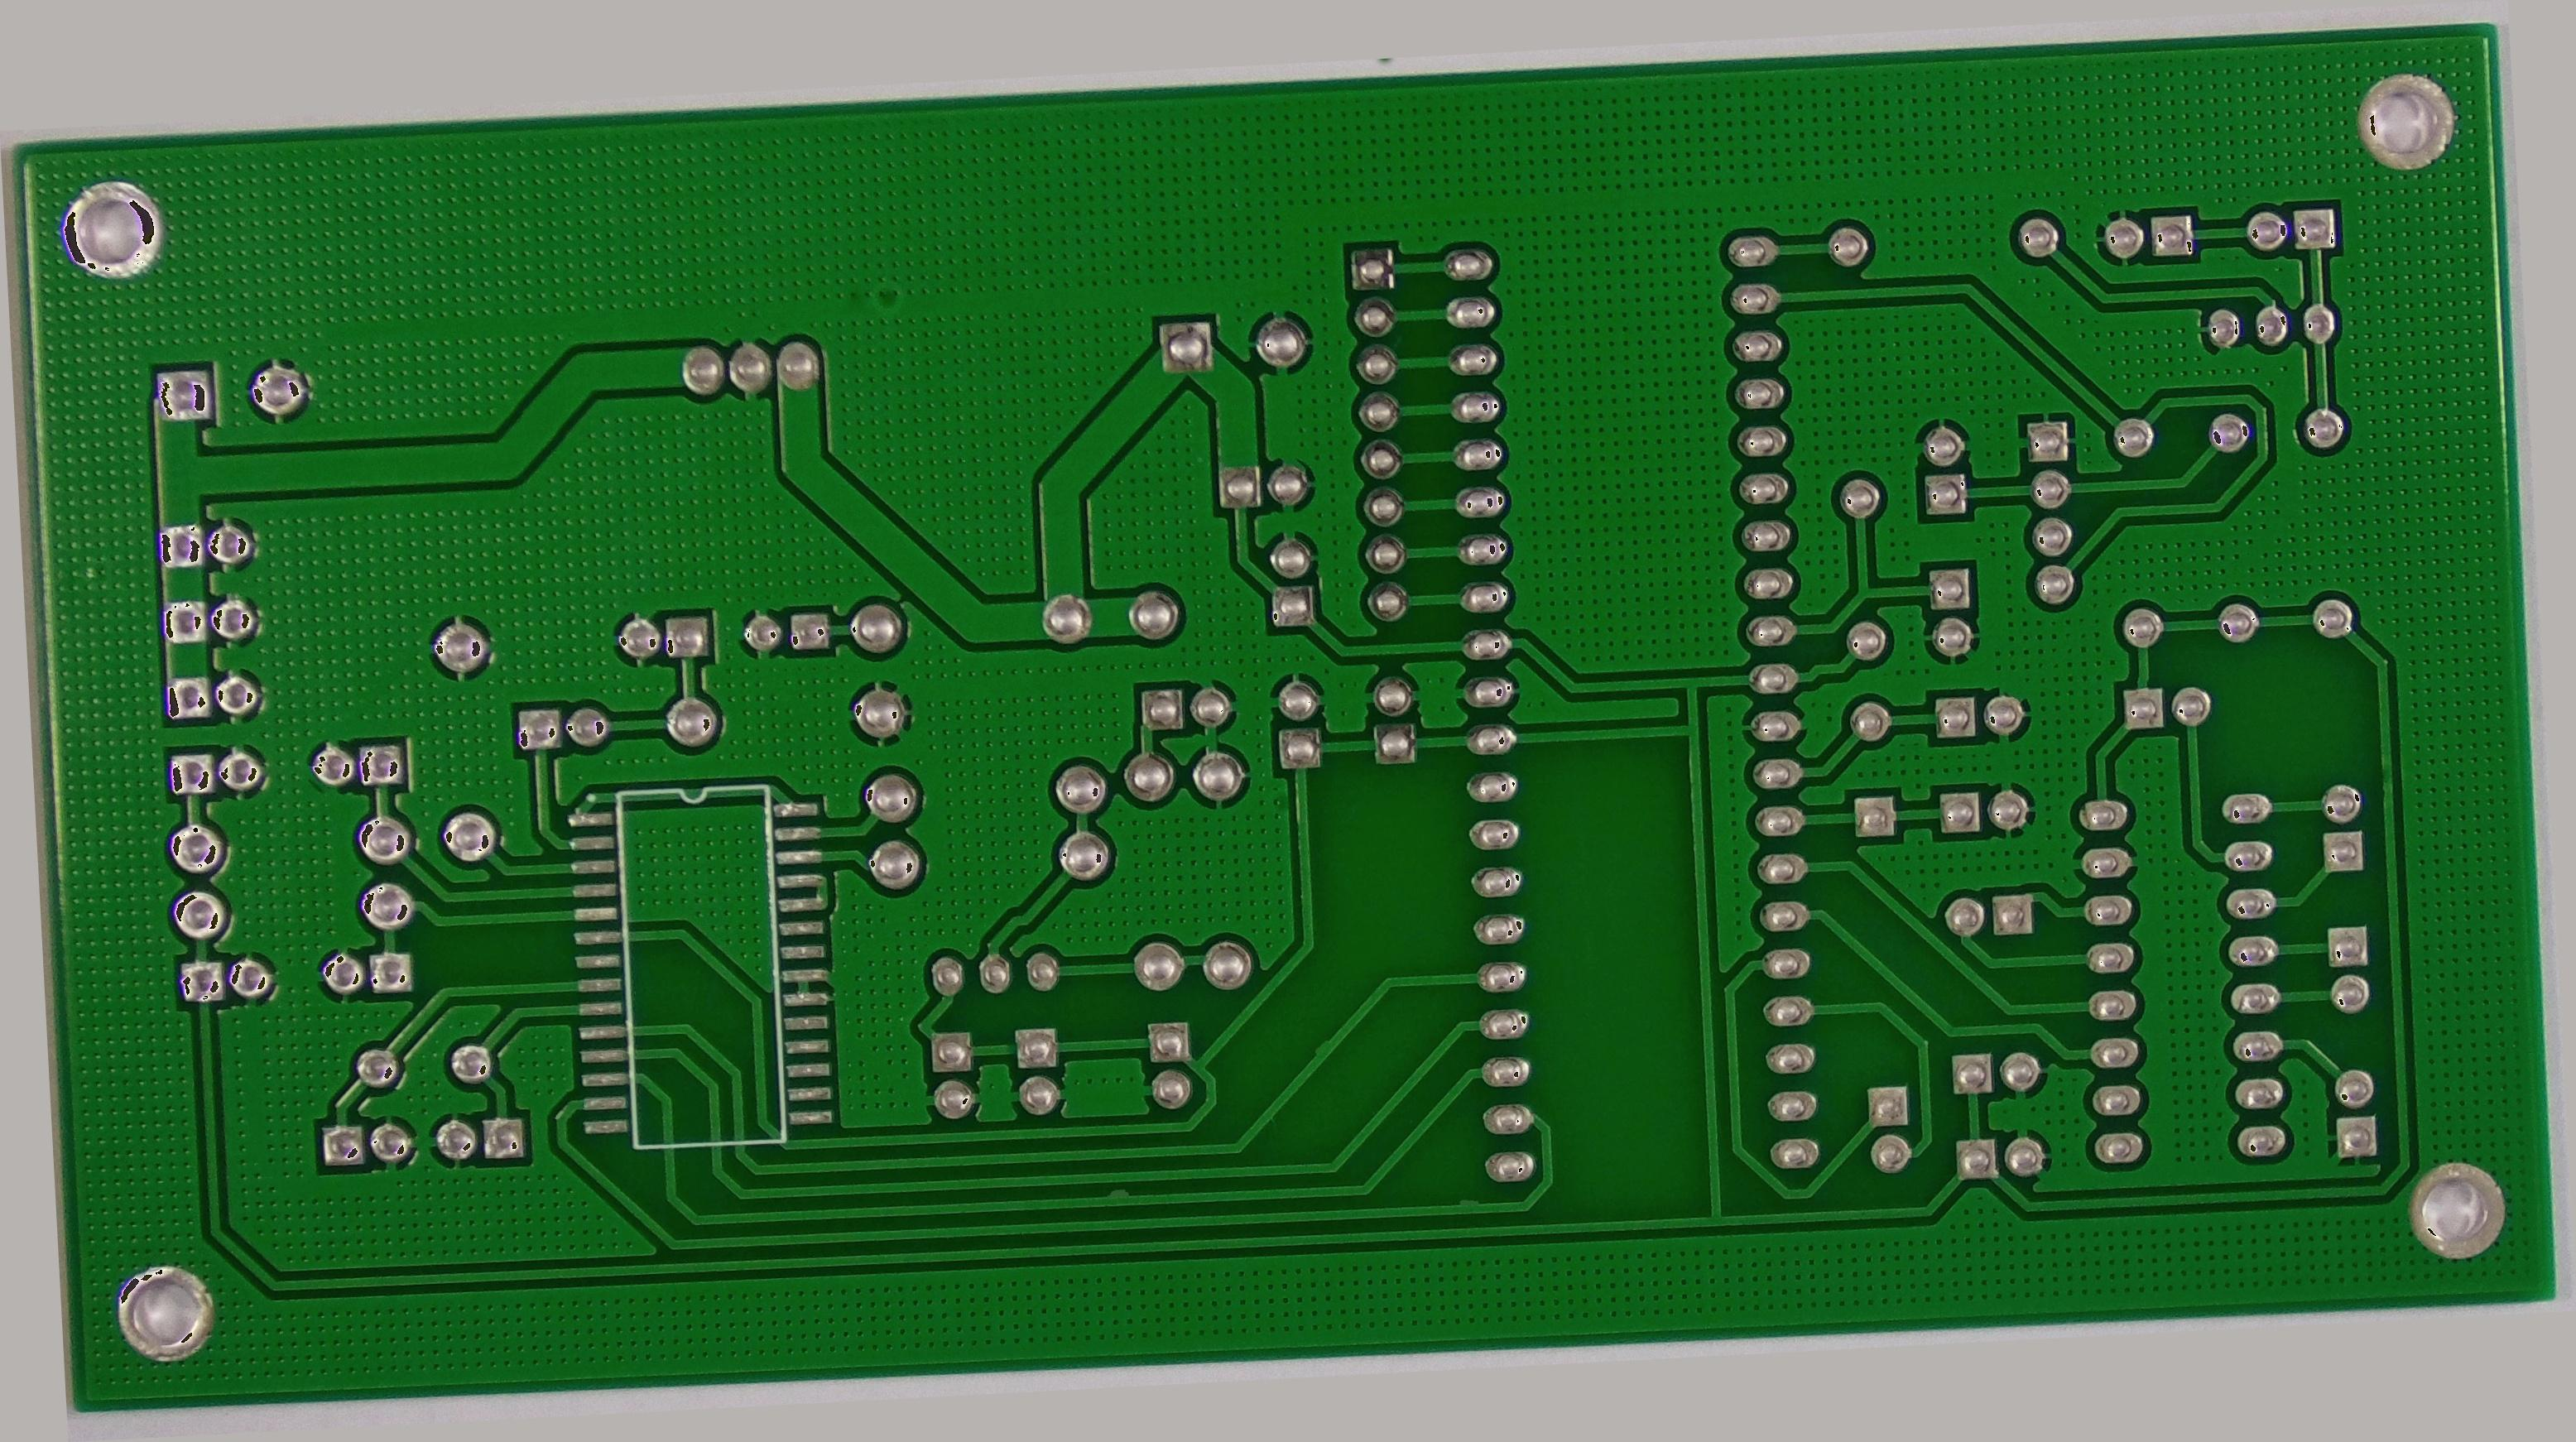spur: (1297, 1023, 1346, 1070), (1093, 1178, 1139, 1210), (1447, 1187, 1483, 1223)
